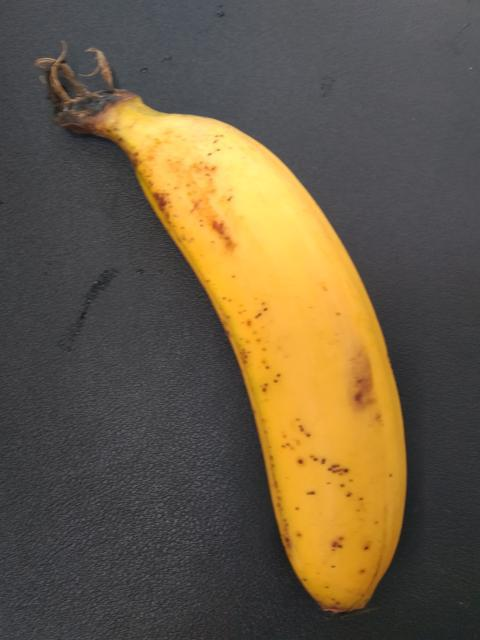ripe: (117, 93, 425, 629)
